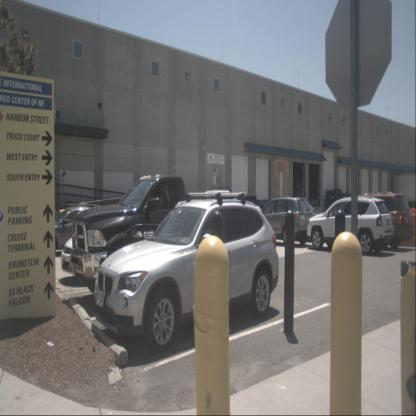barrier: (392, 208, 415, 248)
